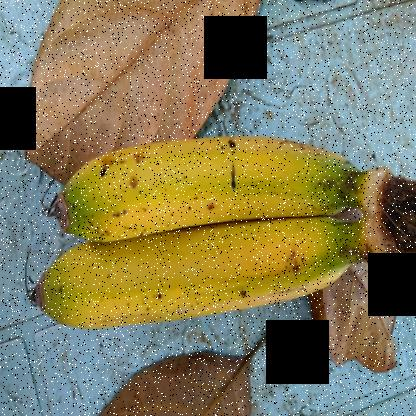ripe: (37, 214, 374, 343), (34, 118, 369, 239)
